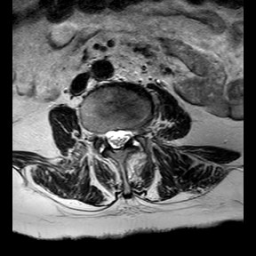CCS_normal: (112, 120, 121, 157)
LFS_stenosis: (131, 118, 140, 144)
LLS_normal: (121, 120, 131, 151)
RFS_normal: (96, 118, 104, 152)
RLS_normal: (104, 118, 112, 151)
